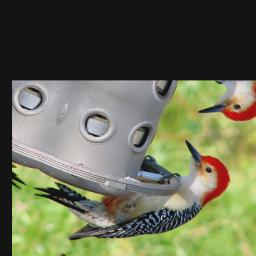Woodpecker: (19, 96, 239, 256)
